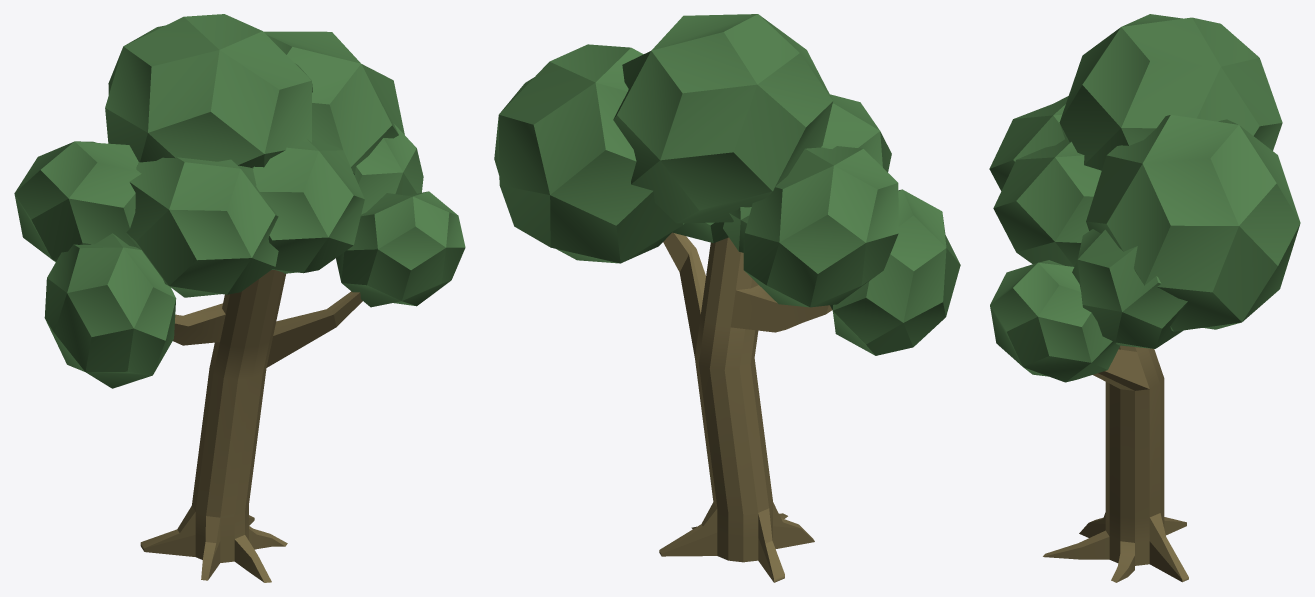
Rendered from SM_Tree_01.fbx.
3 views of the same model, side by side, from view 1: azimuth 30°, elevation 25°; view 2: azimuth 150°, elevation 25°; view 3: azimuth 270°, elevation 25° (orthographic). The views are drawn at different scales.
Visible parts, largest first — view 1: pPlatonic7, pCylinder1, pPlatonic6, pPlatonic3, pPlatonic5, pPlatonic2, pPlatonic1, pPlatonic8, pPlatonic4; view 2: pPlatonic7, pPlatonic8, pCylinder1, pPlatonic5, pPlatonic3, pPlatonic6, pPlatonic1; view 3: pPlatonic8, pPlatonic7, pCylinder1, pPlatonic2, pPlatonic1, pPlatonic4, pPlatonic6.
Part boxes in pixels (x1,y1,x2,y2): pPlatonic7: (105, 14, 312, 167); pCylinder1: (140, 270, 362, 582); pPlatonic6: (126, 157, 278, 297); pPlatonic3: (44, 233, 176, 388); pPlatonic5: (14, 141, 141, 262); pPlatonic2: (336, 191, 465, 307); pPlatonic1: (252, 138, 364, 273); pPlatonic8: (264, 31, 404, 174); pPlatonic4: (354, 124, 423, 214); pPlatonic7: (613, 14, 832, 223); pPlatonic8: (494, 44, 684, 263); pCylinder1: (659, 232, 831, 582); pPlatonic5: (743, 146, 898, 307); pPlatonic3: (830, 189, 960, 355); pPlatonic6: (723, 94, 891, 252); pPlatonic1: (672, 222, 728, 243); pPlatonic8: (1086, 115, 1300, 331); pPlatonic7: (1059, 14, 1282, 170); pCylinder1: (1043, 345, 1188, 582); pPlatonic2: (990, 260, 1119, 382); pPlatonic1: (993, 139, 1101, 266); pPlatonic4: (1072, 229, 1187, 348); pPlatonic6: (989, 96, 1068, 190).
Size of the model in its own units: 1081 by 1410 by 748.
